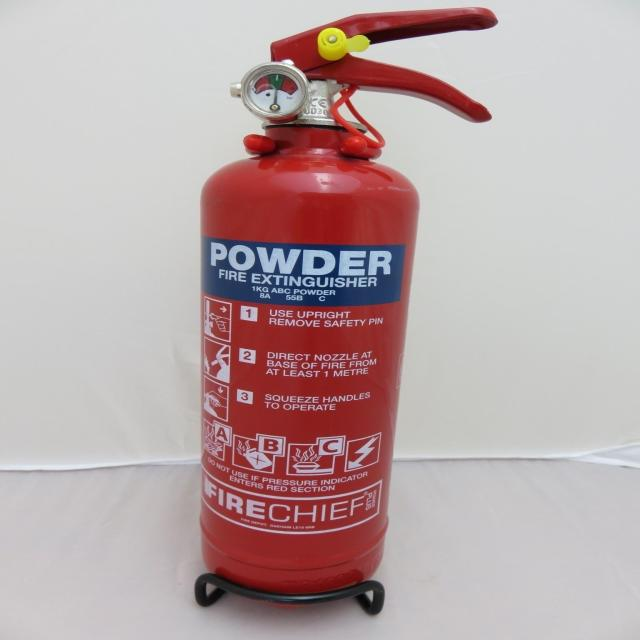fire_extinguisher: (189, 2, 505, 610)
